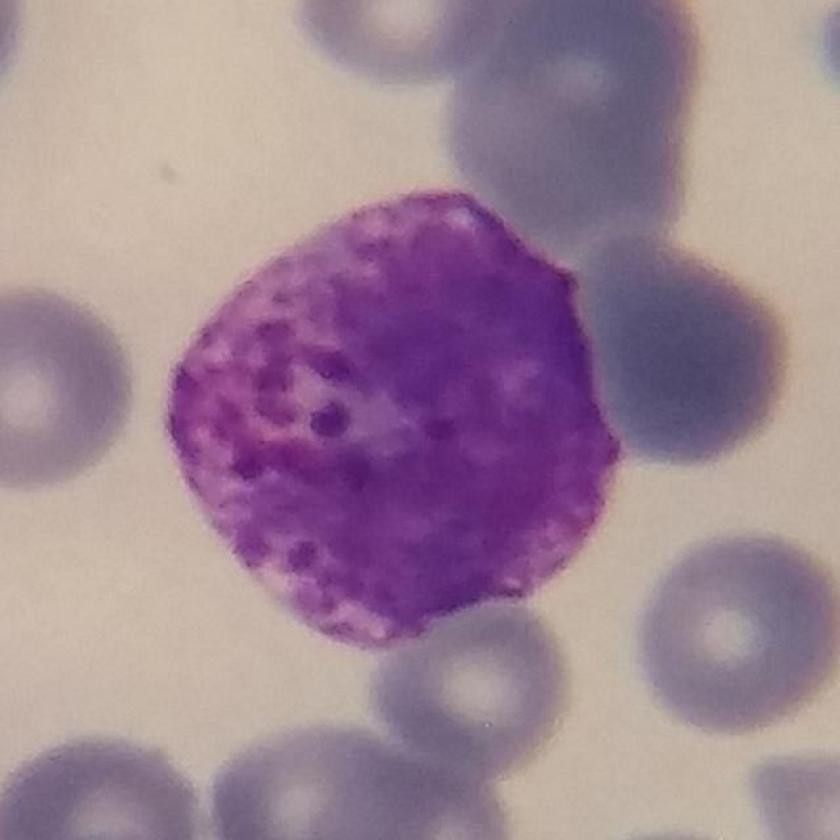basophil: (168, 184, 628, 648)
